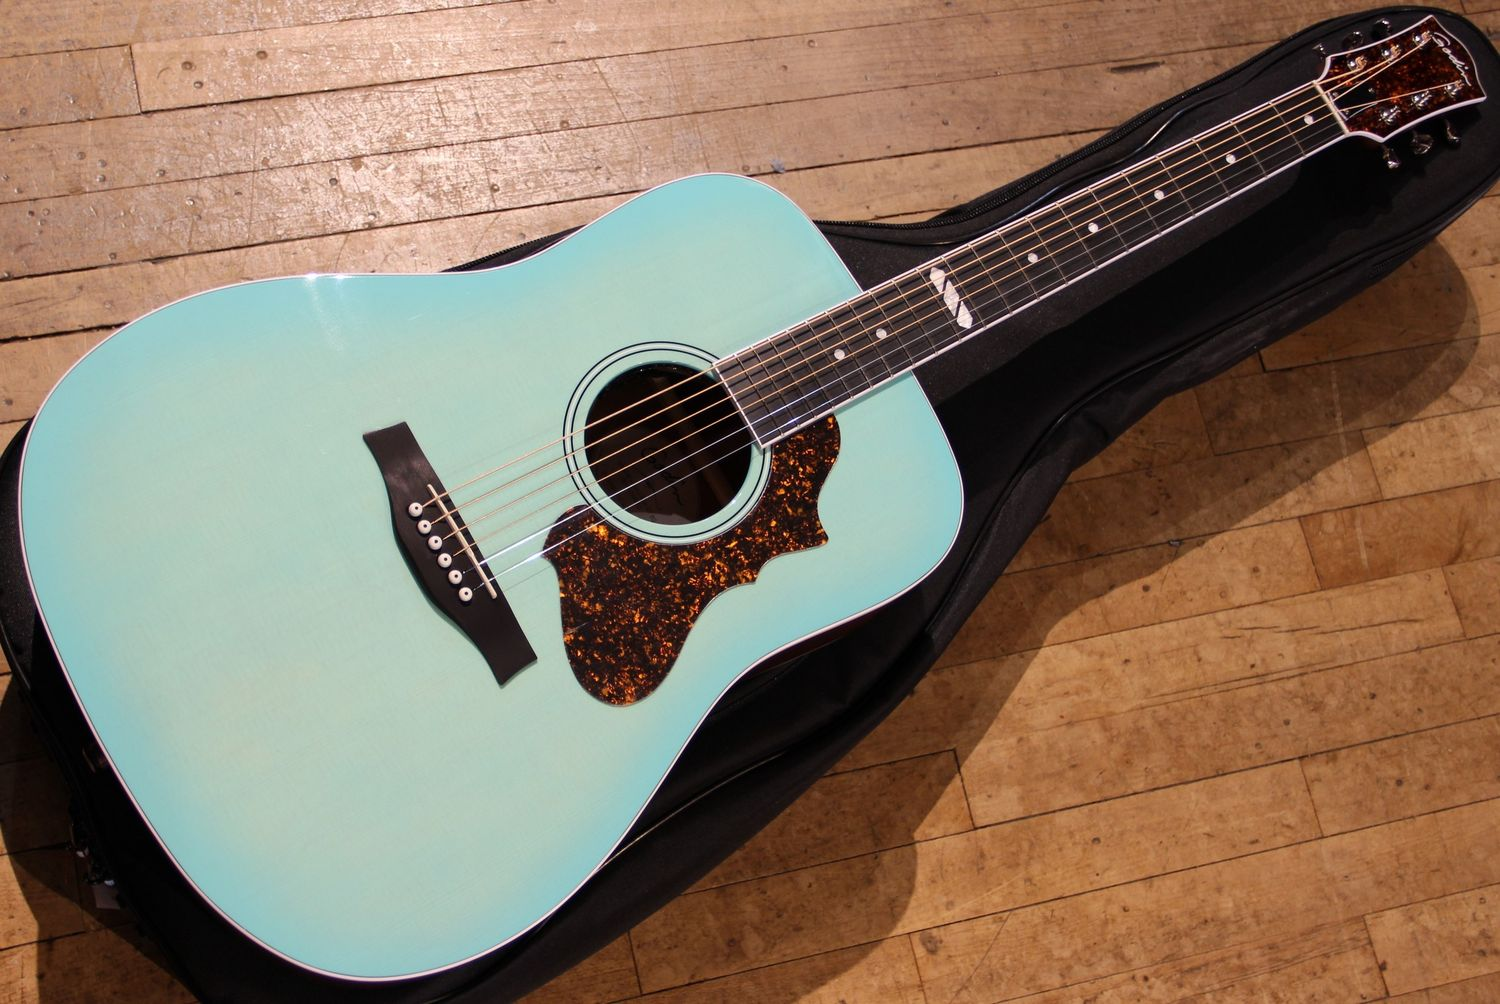guitar: (332, 0, 1499, 705)
